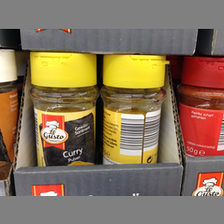spices: (30, 52, 100, 167), (99, 55, 168, 165), (179, 57, 224, 157)
